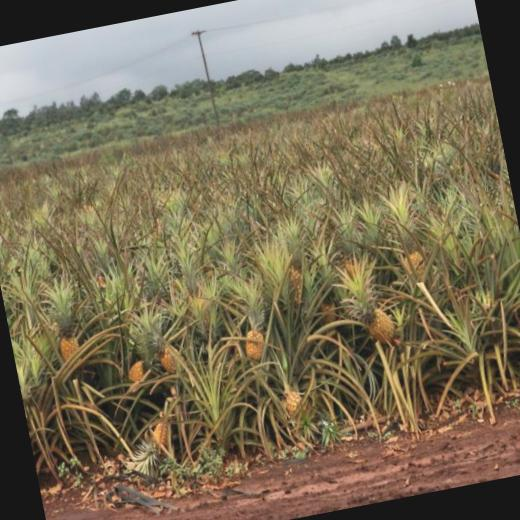Mango: (0, 123, 520, 478)
